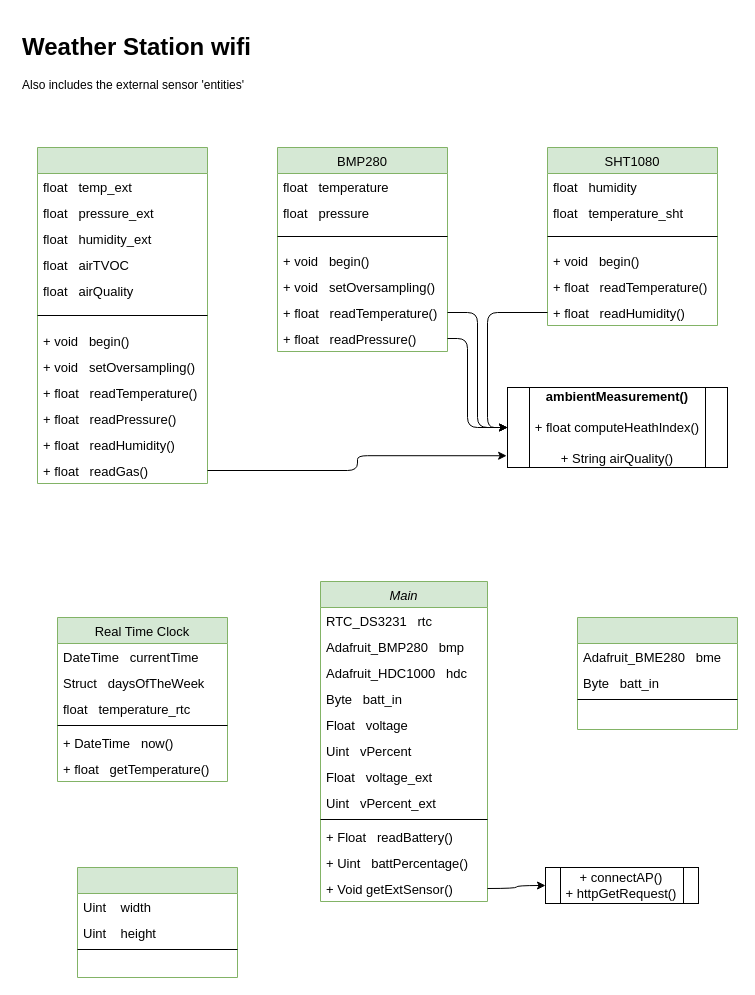
The diagram is 755 pixels wide and 995 high, and some of its shapes have lost their labels. The box of each missing label's shape, as (x1, y1, x2, y2) in pixels:
BME680: (36, 146, 208, 484)
Display: (76, 866, 238, 978)
Ext_sensor: (576, 616, 738, 730)
